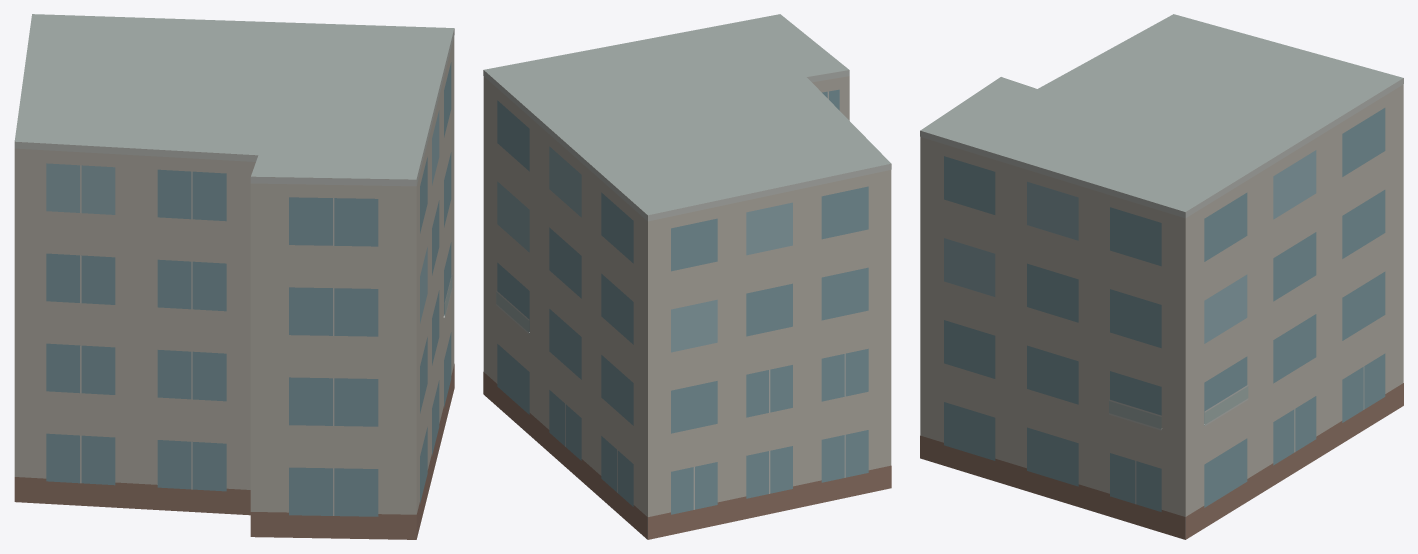
Rendered from survey-upis-32865973.glb.
3 renders of one model, left to right at view 1: azimuth 30°, elevation 25°; view 2: azimuth 150°, elevation 25°; view 3: azimuth 270°, elevation 25°, orthographic. The views are drawn at different scales.
Parts seen in each view (by area): view 1: survey-upis-32865973.tmp; view 2: survey-upis-32865973.tmp; view 3: survey-upis-32865973.tmp.
Part boxes in pixels (bbox=[...]): survey-upis-32865973.tmp: bbox=[14, 14, 454, 539]; survey-upis-32865973.tmp: bbox=[483, 14, 891, 539]; survey-upis-32865973.tmp: bbox=[920, 14, 1403, 539].
Bounding box in the file's own units: 16.69 × 12.87 × 17.22.
